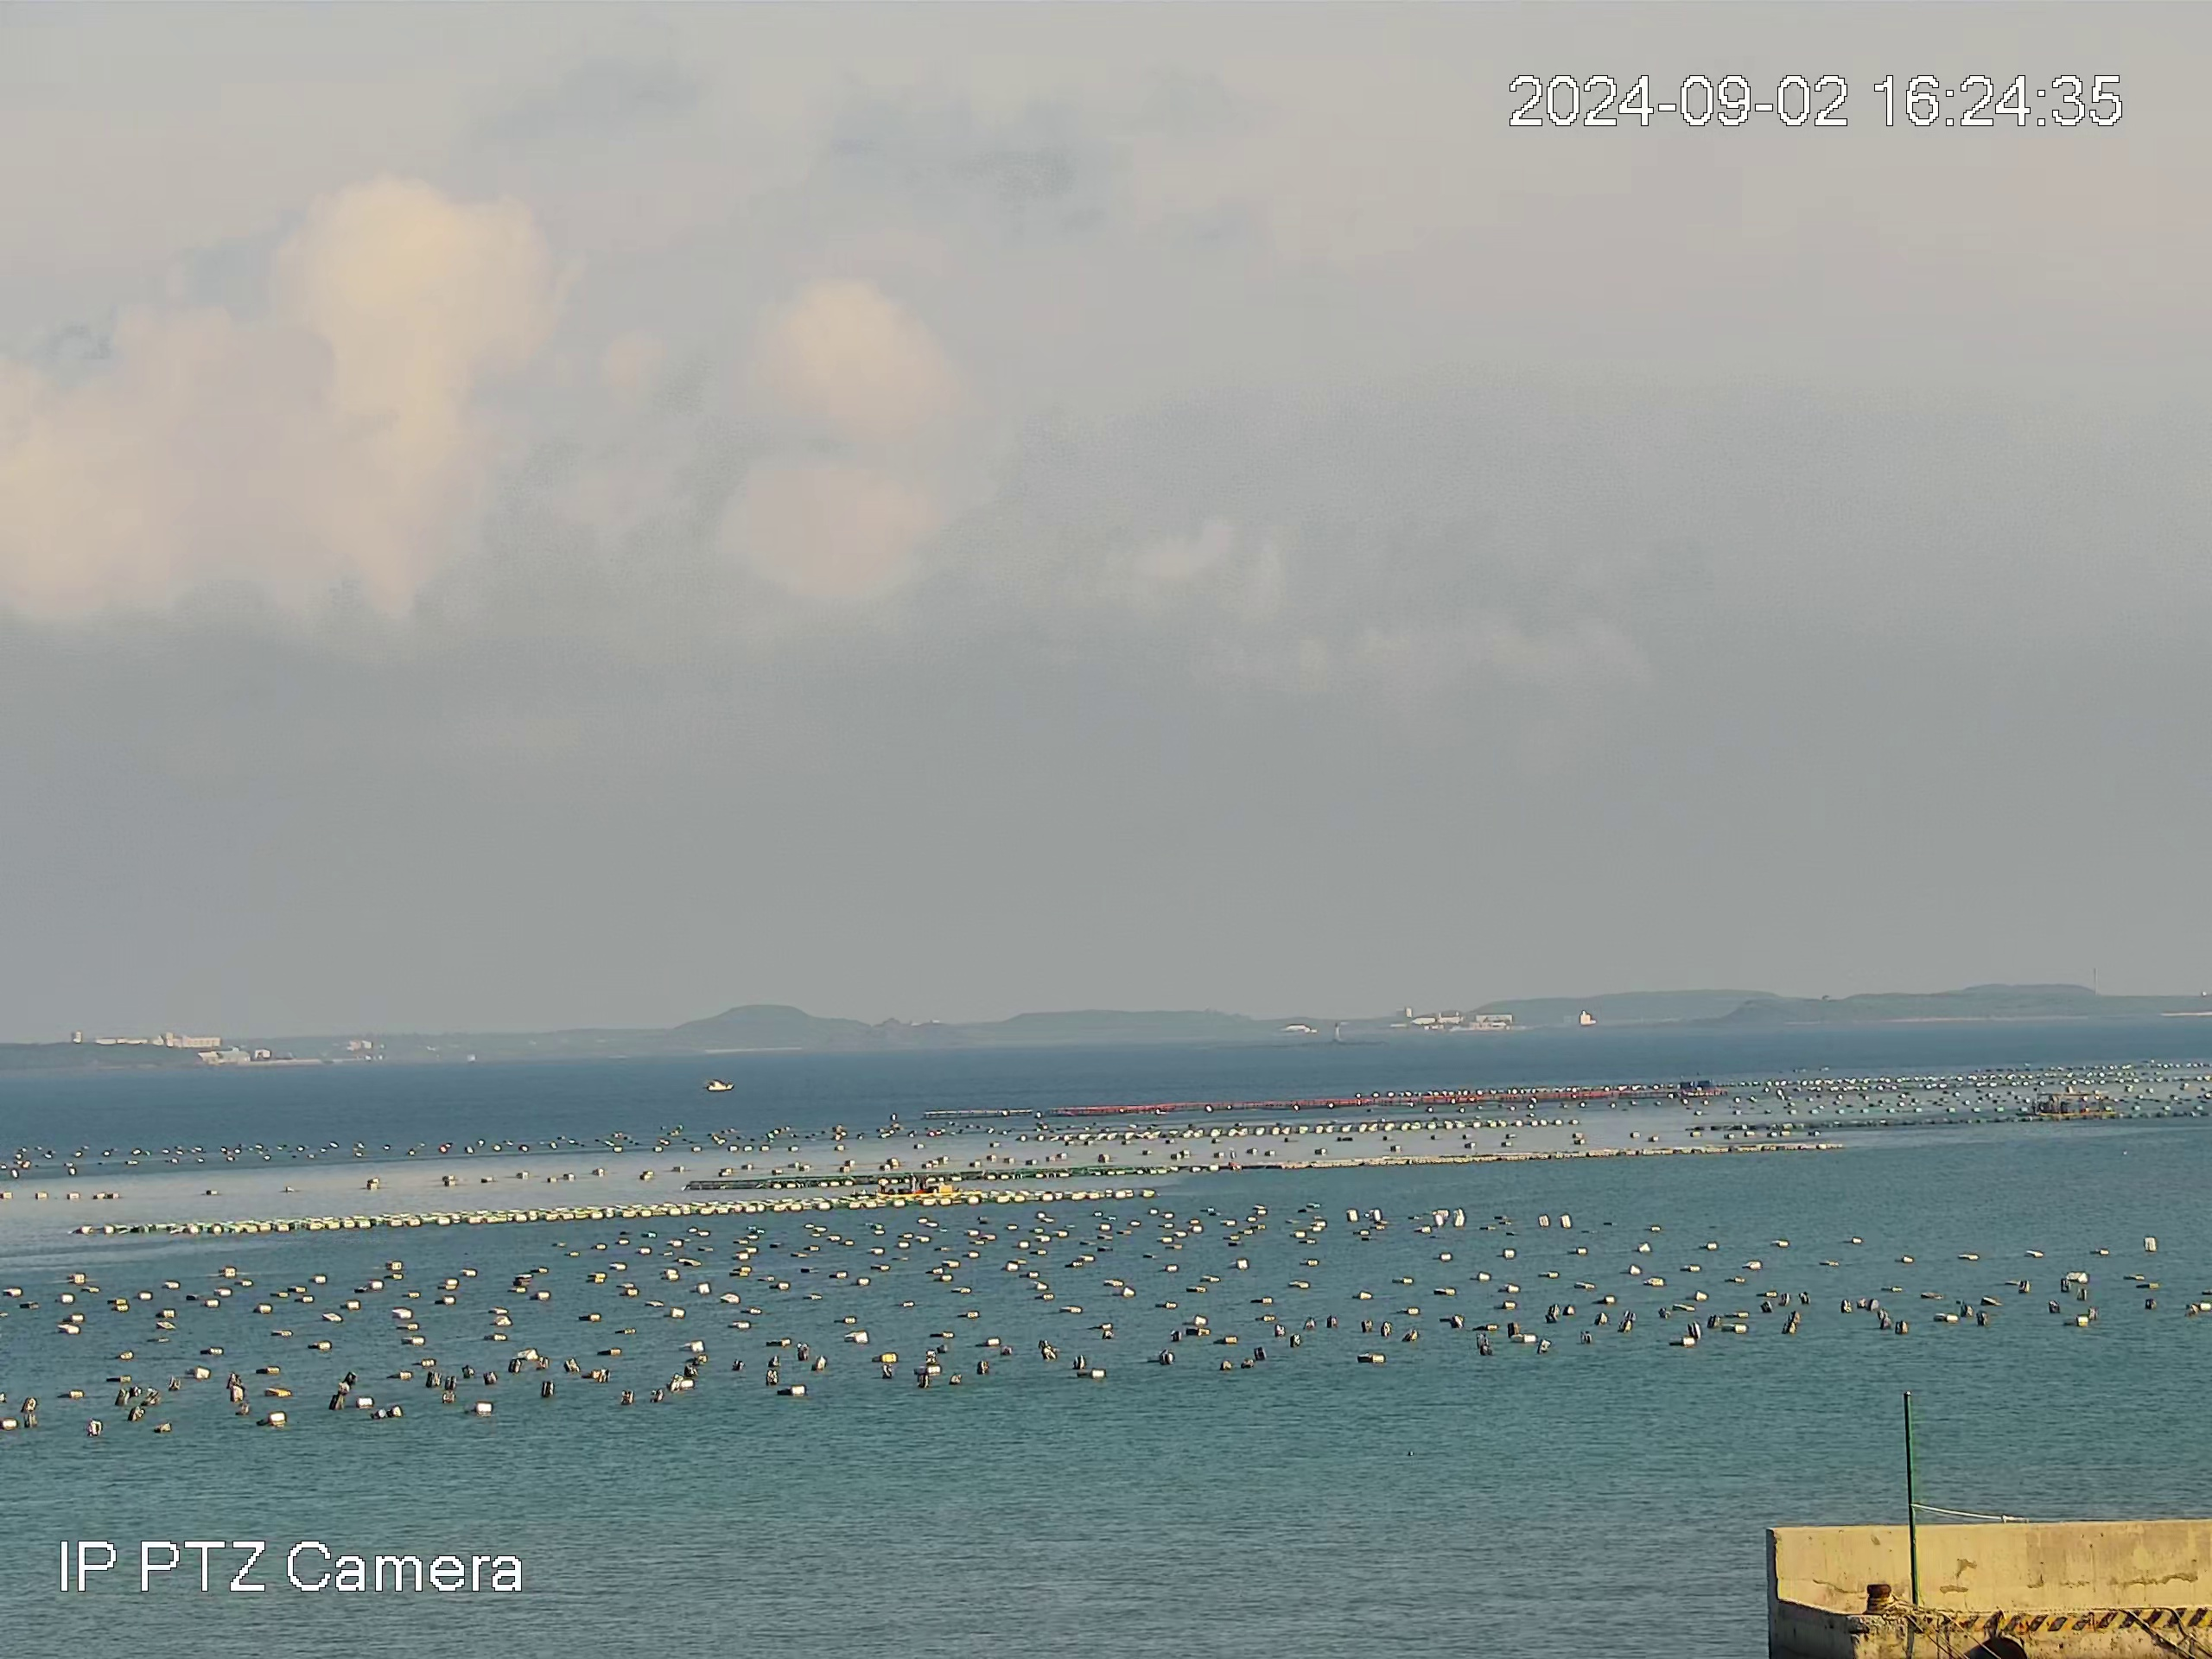boat: (874, 1173, 982, 1197), (2033, 1091, 2118, 1119), (704, 1075, 737, 1093)
